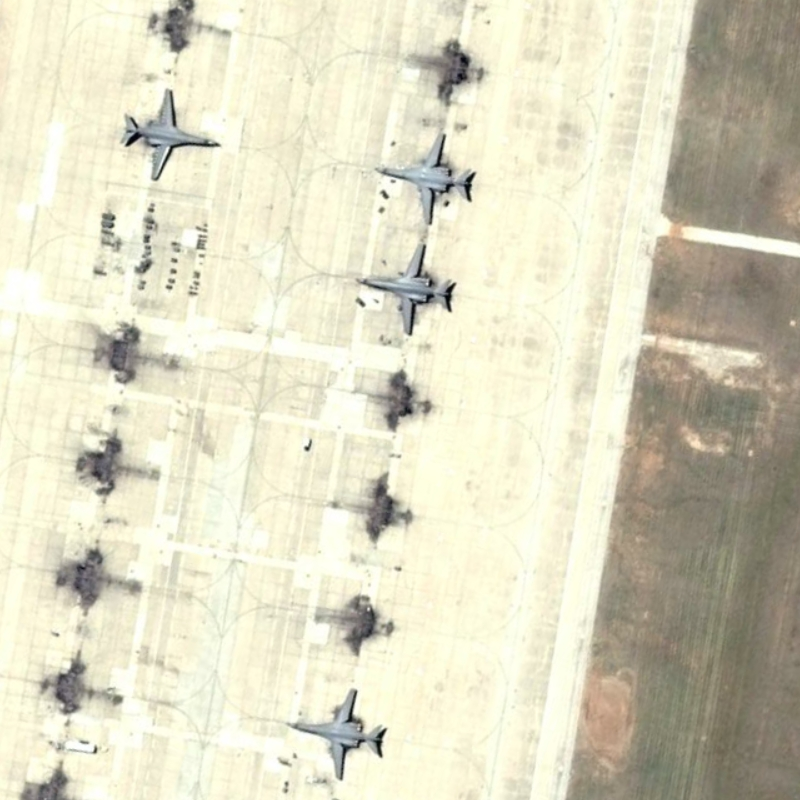A10: (280, 684, 406, 784), (110, 83, 230, 185), (348, 244, 471, 339), (371, 128, 485, 226)
